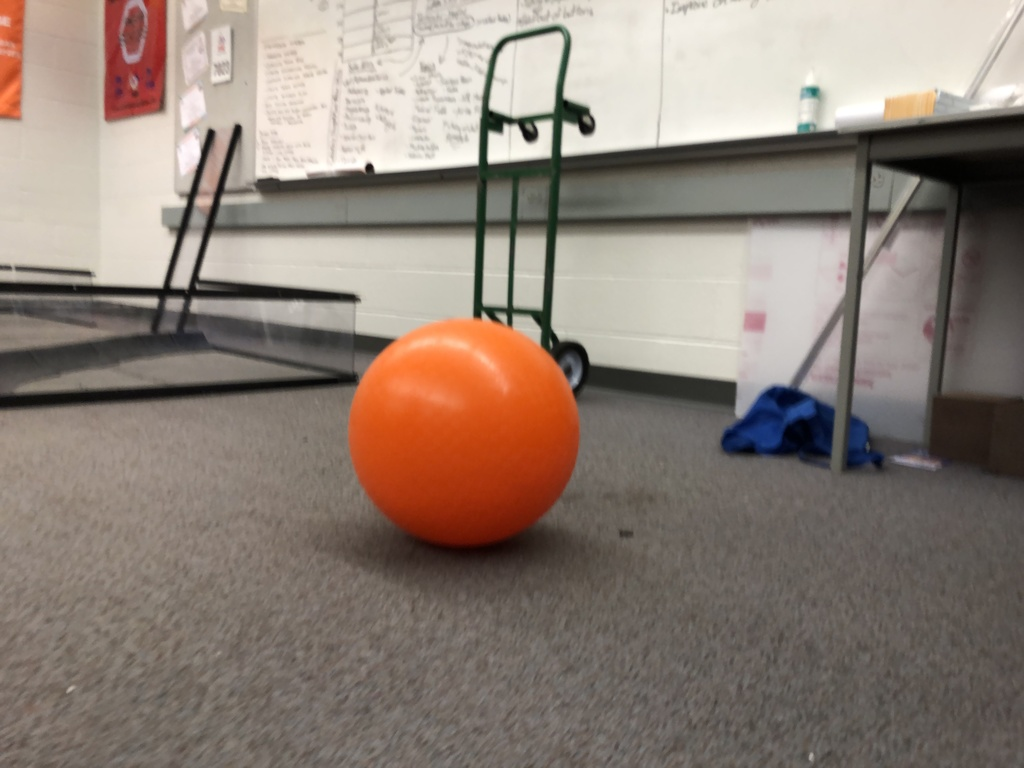cargo: (340, 308, 589, 563)
